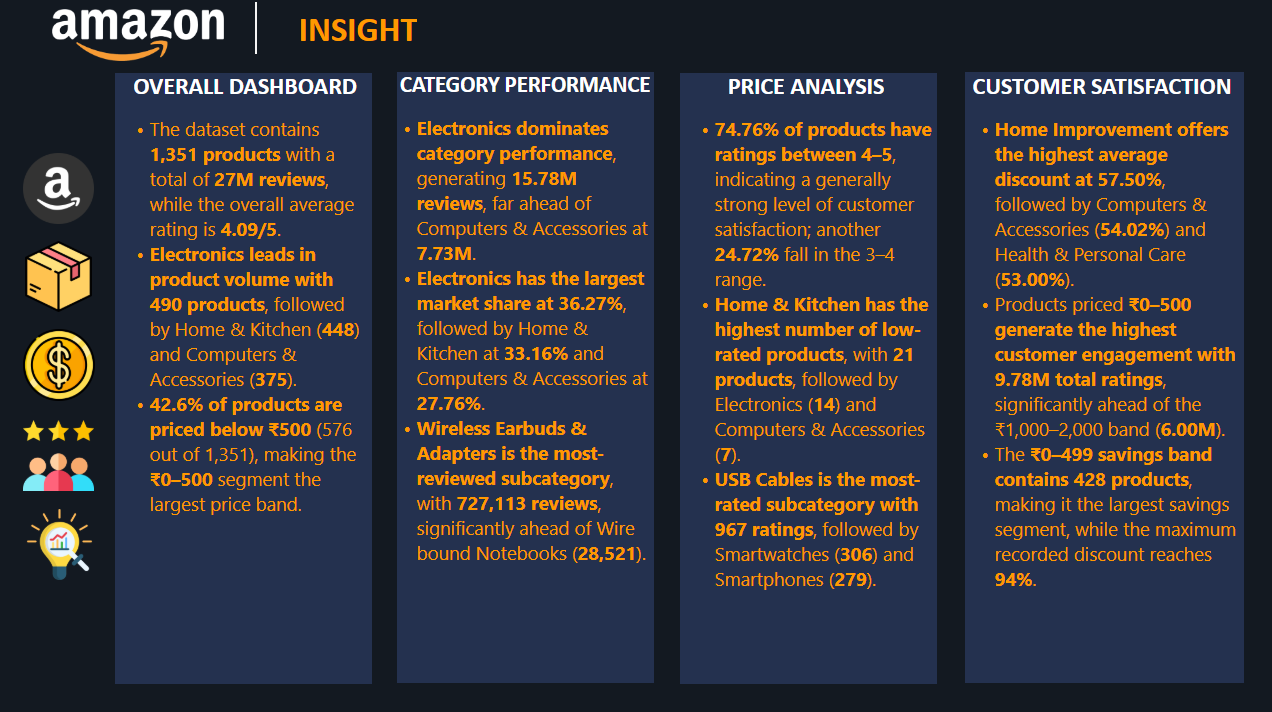

The page's visual inventory and layout, read from the dashboard file:
{"tool":"powerbi","page":{"name":"Insights","canvas":[1280,720],"ordinal":4},"visuals":[{"type":"slicer","fields":{"Values":["amazon.sale-price_bands"]},"box":[1035.5,7.8,214.4,60],"z":0,"group":"g3"},{"type":"image","box":[24.4,13.3,241.1,54.4],"z":0,"group":"g2"},{"type":"group","id":"g1","title":"Slides","box":[23.3,156.7,82.2,426.7],"z":0},{"type":"image","box":[23.3,156.7,81.5,71.2],"z":0,"group":"g1"},{"type":"image","box":[24.4,512.3,81.5,71.2],"z":500,"group":"g1"},{"type":"group","id":"g2","title":"Header Icon","box":[24.4,0,578.9,67.8],"z":1000},{"type":"shape","box":[256.6,0,346.7,56.7],"z":1000,"group":"g2"},{"type":"slicer","fields":{"Values":["amazon.main_category","amazon.sub_category"]},"box":[834.4,7.8,214.4,60],"z":1000,"group":"g3"},{"type":"image","box":[23.3,244.5,81.5,71.2],"z":1000,"group":"g1"},{"type":"group","id":"g3","title":"Slicer","box":[834.4,7.8,415.6,60],"z":2000},{"type":"shape","box":[92.2,13.3,327.8,25.6],"z":2000,"group":"g2"},{"type":"image","box":[23.3,333.2,81.5,71.2],"z":2000,"group":"g1"},{"type":"image","box":[23.3,423.4,81.5,71.2],"z":3000,"group":"g1"}]}

Visuals, with their boxes in screenshot pixels (x1, y1, x2, y2), scaled from the page's 1280x720 canvas onto the 1272x712 screenshot:
slicer - amazon.sale-price_bands: 1029,8,1242,67
image: 24,13,264,67
"Slides" group: 23,155,105,577
image: 23,155,104,225
image: 24,507,105,577
"Header Icon" group: 24,0,600,67
shape: 255,0,600,56
slicer - amazon.main_category x amazon.sub_category: 829,8,1042,67
image: 23,242,104,312
"Slicer" group: 829,8,1242,67
shape: 92,13,417,38
image: 23,329,104,400
image: 23,419,104,489
